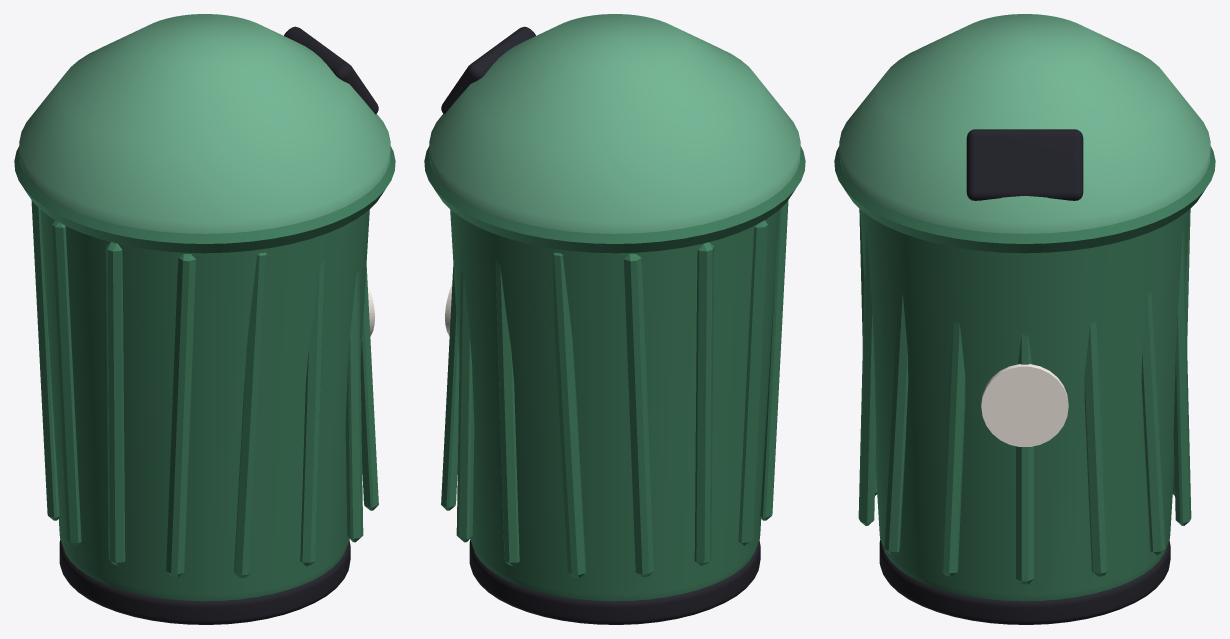
File: trashcan.glb
3 views of the same model, side by side, from view 1: azimuth 30°, elevation 25°; view 2: azimuth 150°, elevation 25°; view 3: azimuth 270°, elevation 25° (orthographic).
Visible parts, largest first — view 1: trashcan; view 2: trashcan; view 3: trashcan.
Boxes of the visible parts, box(x1,y1,x2,y2) form: trashcan: box(14, 14, 395, 624); trashcan: box(424, 14, 805, 624); trashcan: box(834, 14, 1215, 624).
Bounding box in the file's own units: 0.5235 × 0.8 × 0.5238.
Materials: 1 (1 with a texture image).
